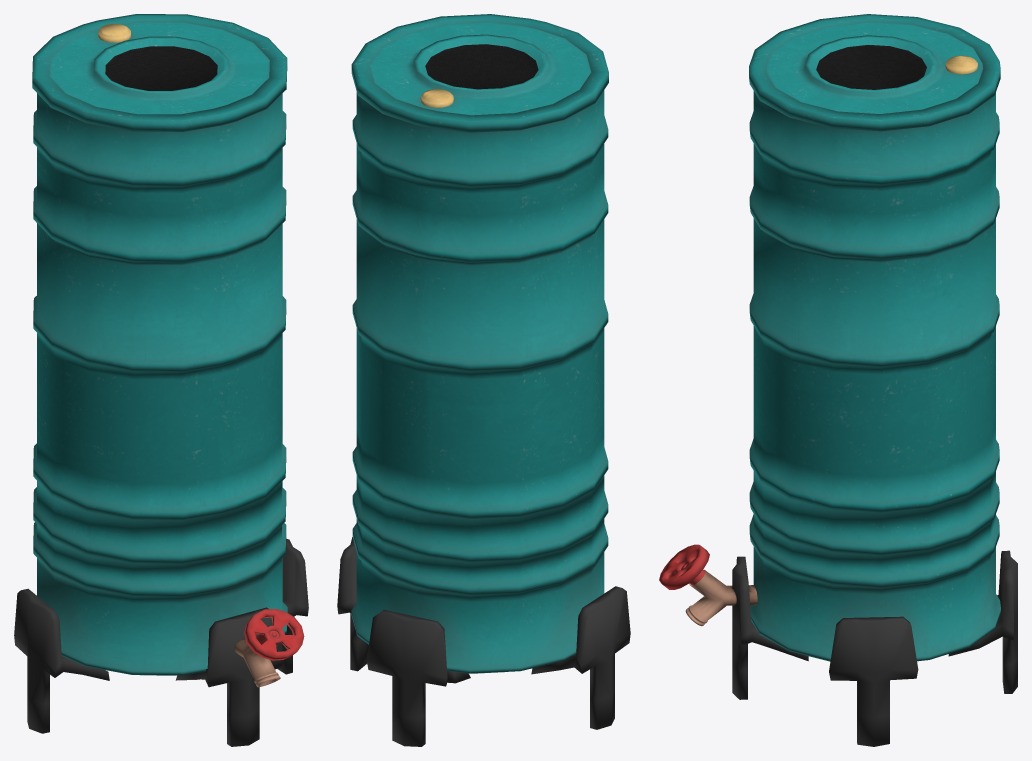
The model's file is SM_RainBarrel_V01.glb.
3 views of the same model, side by side, from view 1: azimuth 30°, elevation 25°; view 2: azimuth 150°, elevation 25°; view 3: azimuth 270°, elevation 25° (orthographic).
Visible parts, largest first — view 1: SM_RainBarrel_Type_02.001; view 2: SM_RainBarrel_Type_02.001; view 3: SM_RainBarrel_Type_02.001.
Part boxes in pixels (box(x1,y1,x2,y2)): SM_RainBarrel_Type_02.001: box(14, 14, 308, 746); SM_RainBarrel_Type_02.001: box(337, 14, 630, 746); SM_RainBarrel_Type_02.001: box(659, 14, 1017, 746).
Bounding box in the file's own units: 0.567 × 1.32 × 0.6894.
Materials: 7 (7 with a texture image).
